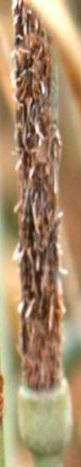Wheat: (17, 49, 59, 328)
